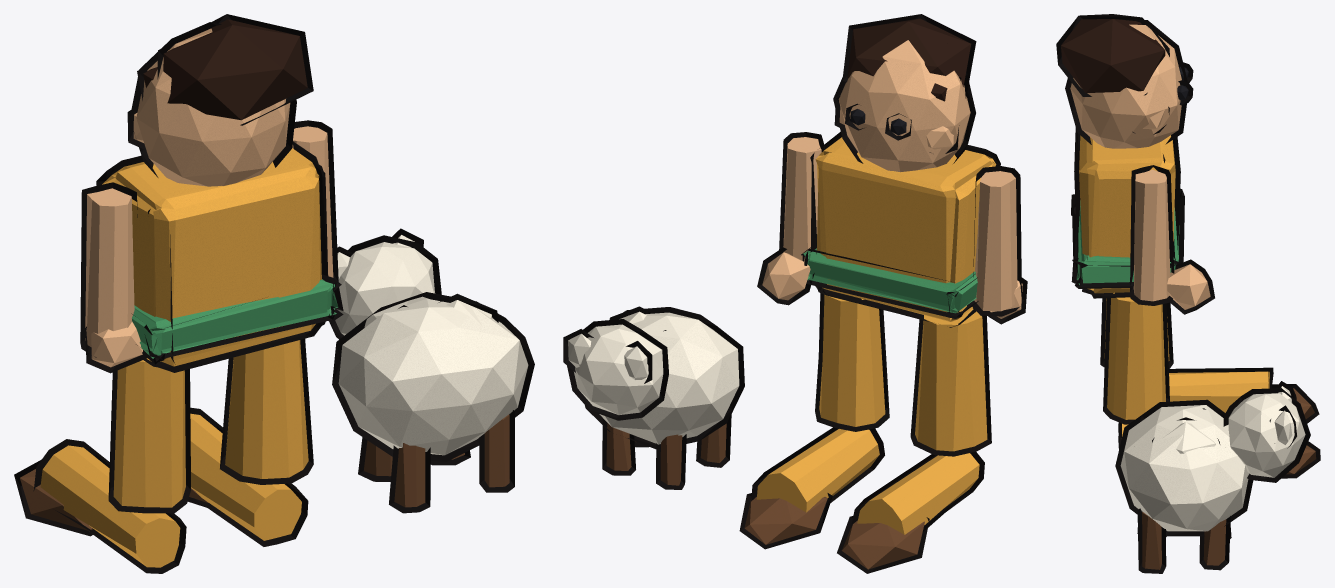
File: david_mentor_v4.glb
3 renders of one model, left to right at view 1: azimuth 30°, elevation 25°; view 2: azimuth 150°, elevation 25°; view 3: azimuth 270°, elevation 25°, orthographic. The views are drawn at different scales.
Parts seen in each view (by area): view 1: David_Mentor, David_Mentor_Outline; view 2: David_Mentor, David_Mentor_Outline; view 3: David_Mentor, David_Mentor_Outline.
Boxes of the visible parts, bbox=[...] form: David_Mentor: bbox=[20, 19, 528, 567]; David_Mentor_Outline: bbox=[14, 14, 534, 573]; David_Mentor: bbox=[568, 18, 1022, 569]; David_Mentor_Outline: bbox=[563, 14, 1027, 573]; David_Mentor: bbox=[1061, 19, 1316, 569]; David_Mentor_Outline: bbox=[1056, 14, 1320, 573].
Bounding box in the file's own units: 0.9066 × 1 × 0.5433.
8 materials, 8 textured.
